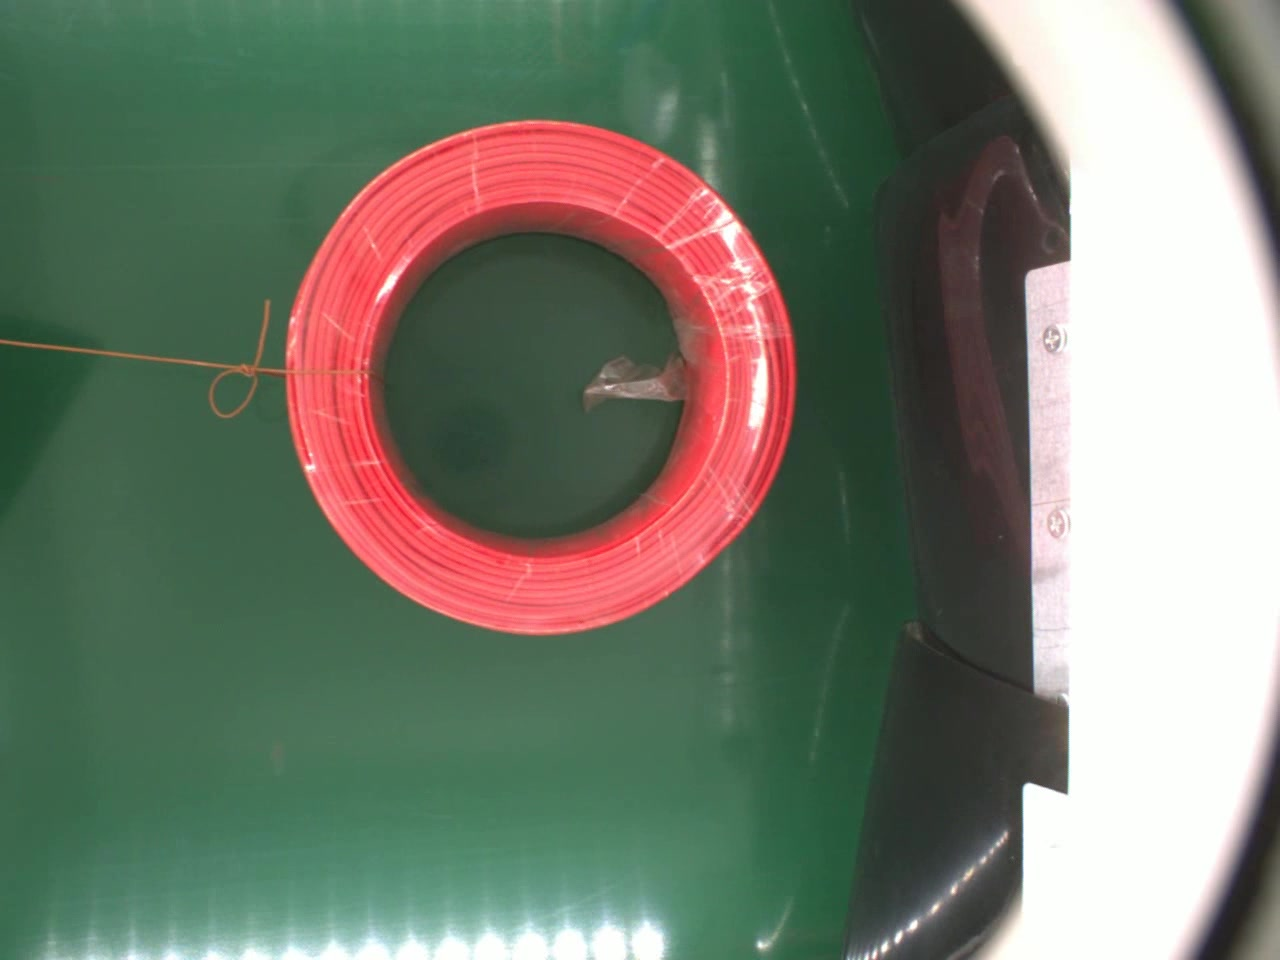red: (284, 115, 802, 634)
